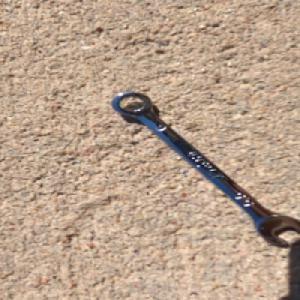Wrench: (109, 90, 300, 246)
